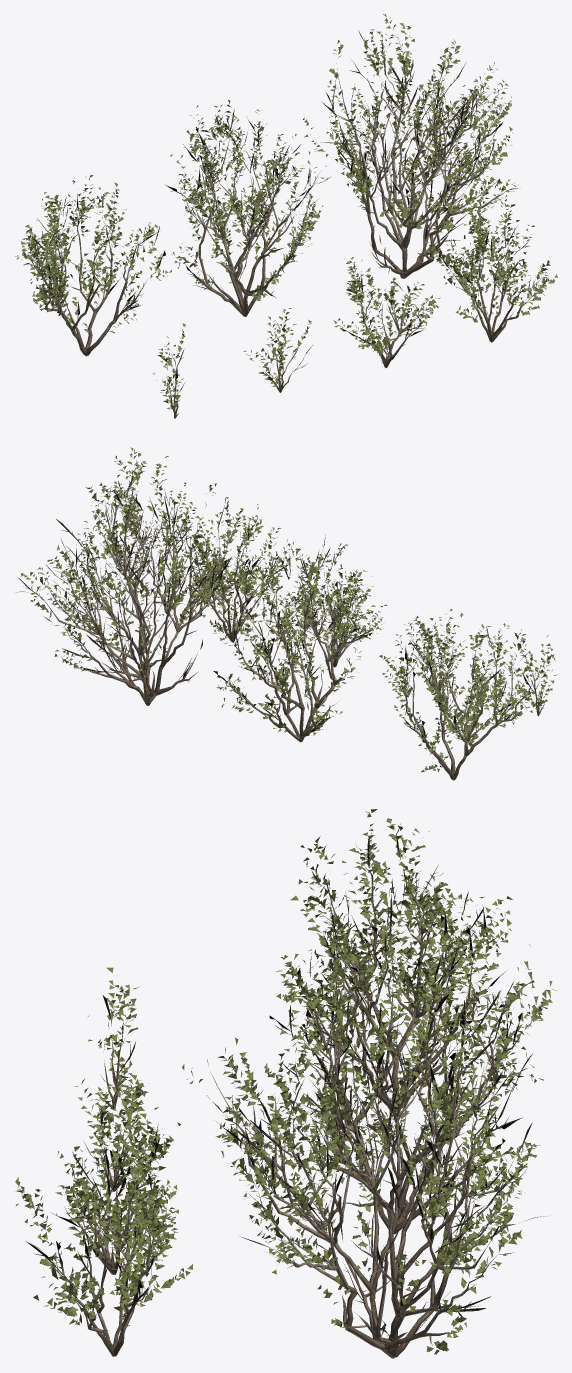
Rendered from searsia_lucida_mid.glb.
The picture shows the model from 3 angles, top to bottom: view 1: azimuth 30°, elevation 25°; view 2: azimuth 150°, elevation 25°; view 3: azimuth 270°, elevation 25°; orthographic projection. The views are drawn at different scales.
Visible parts, largest first — view 1: searsia_lucida_a_LOD0; view 2: searsia_lucida_a_LOD0; view 3: searsia_lucida_a_LOD0.
Part boxes in pixels (x1,y1,x2,y2): searsia_lucida_a_LOD0: (15,14,557,418); searsia_lucida_a_LOD0: (16,447,557,780); searsia_lucida_a_LOD0: (15,809,556,1358).
Size of the model in its own units: 4.74 by 2.31 by 2.81.
Materials: 2 (2 with a texture image).
